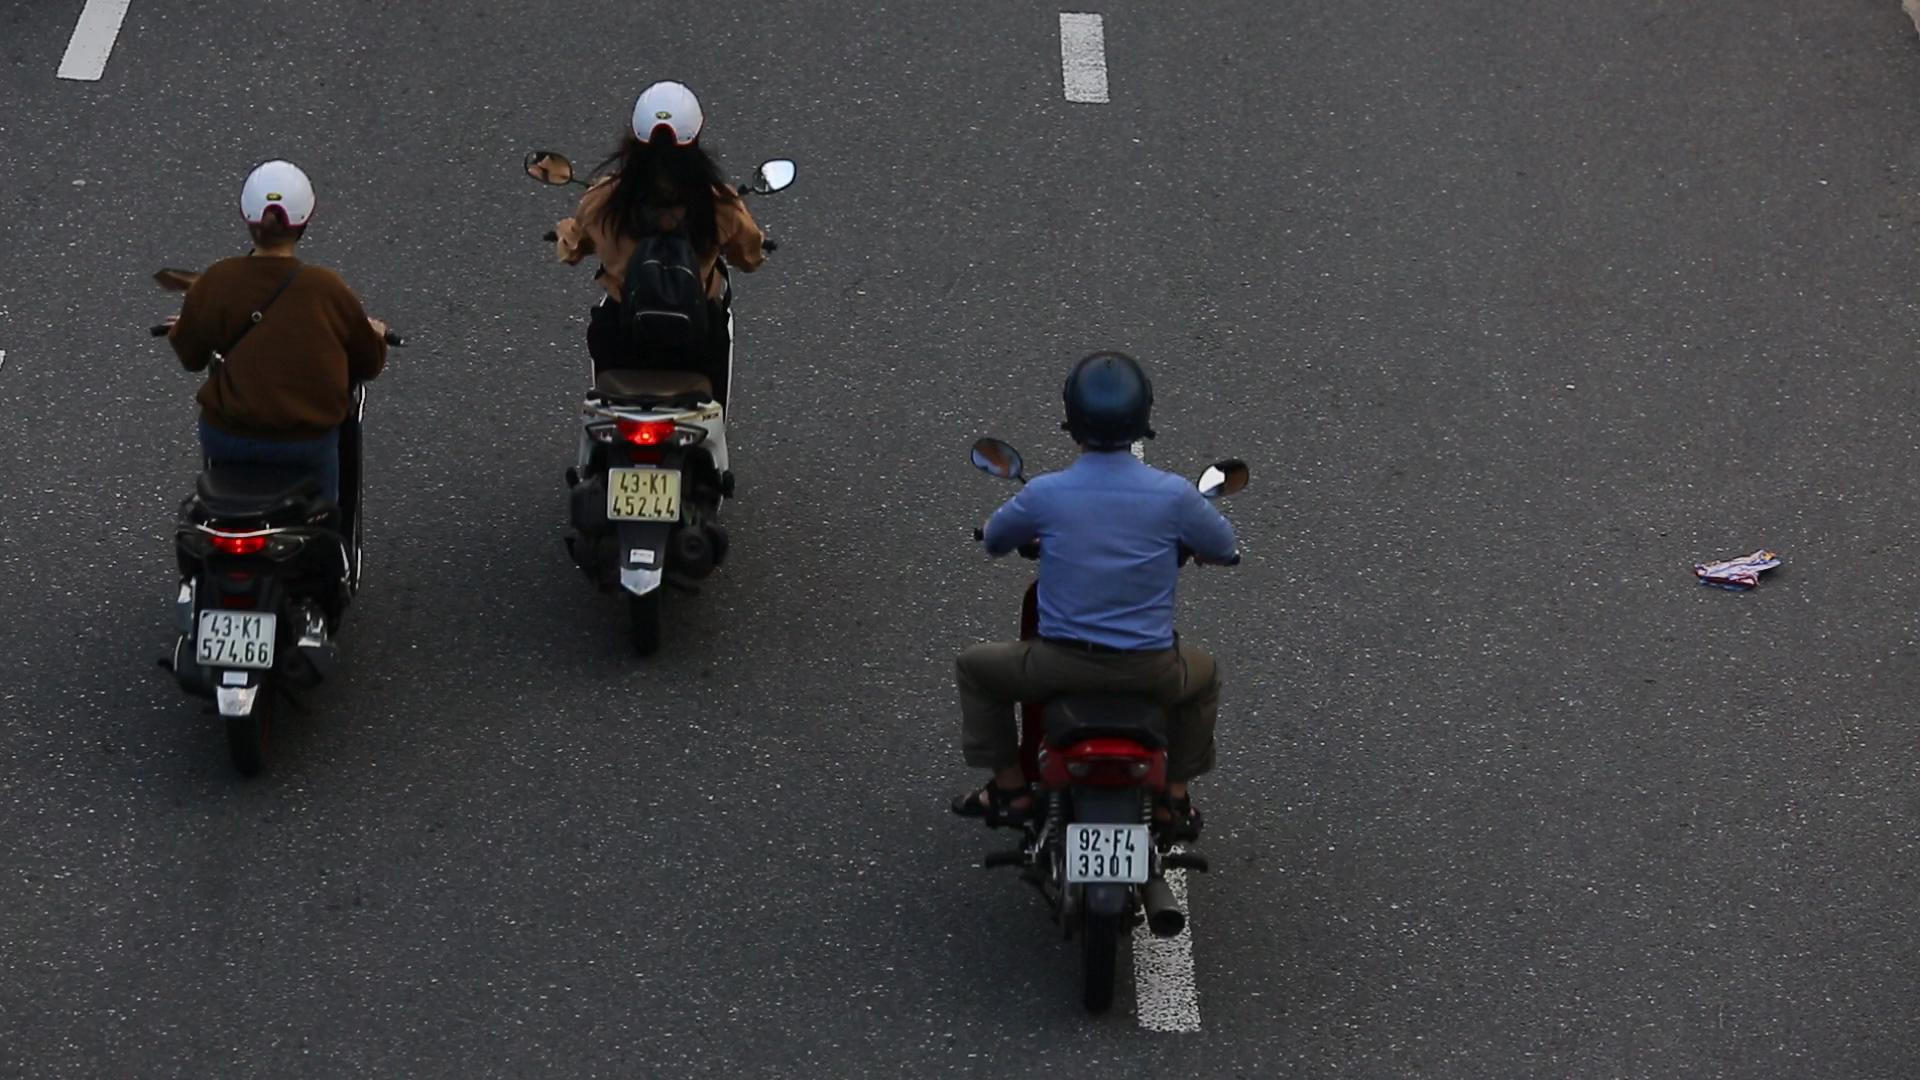motobike: (943, 339, 1279, 1031), (140, 150, 415, 786), (520, 63, 806, 666)
